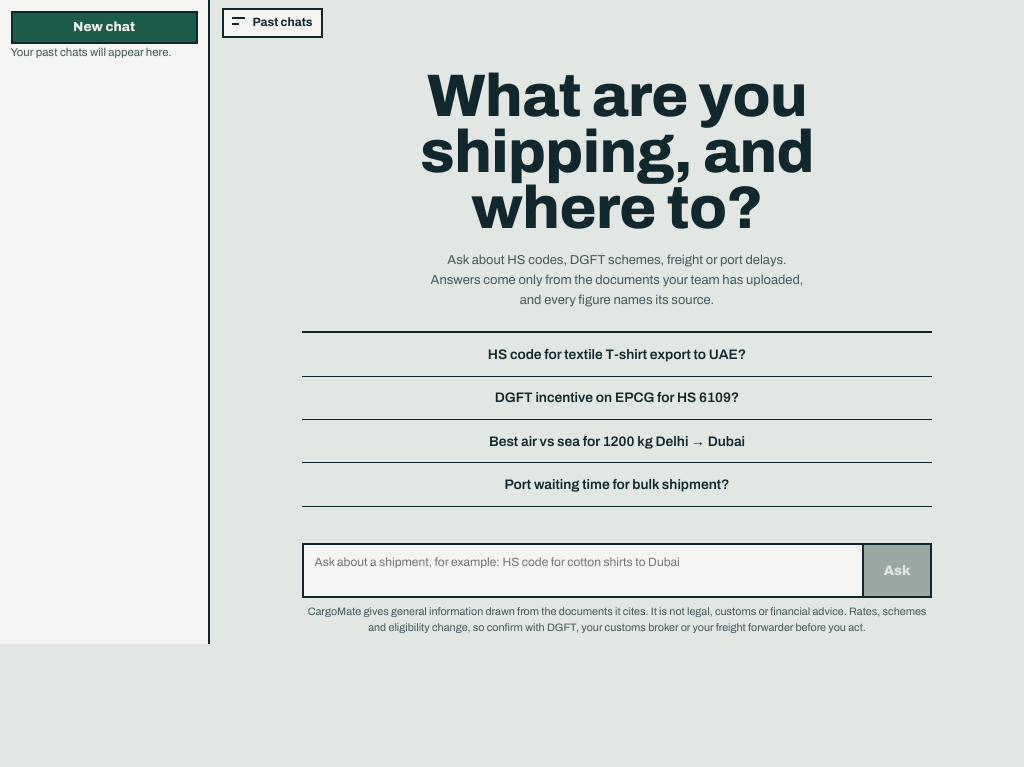
Chat history › continues an opened chat with its earlier turns as context, in the same list entry
Type "first" into the text box named "Your question" at (583, 571), box [304,545,862,596]
Then press Enter
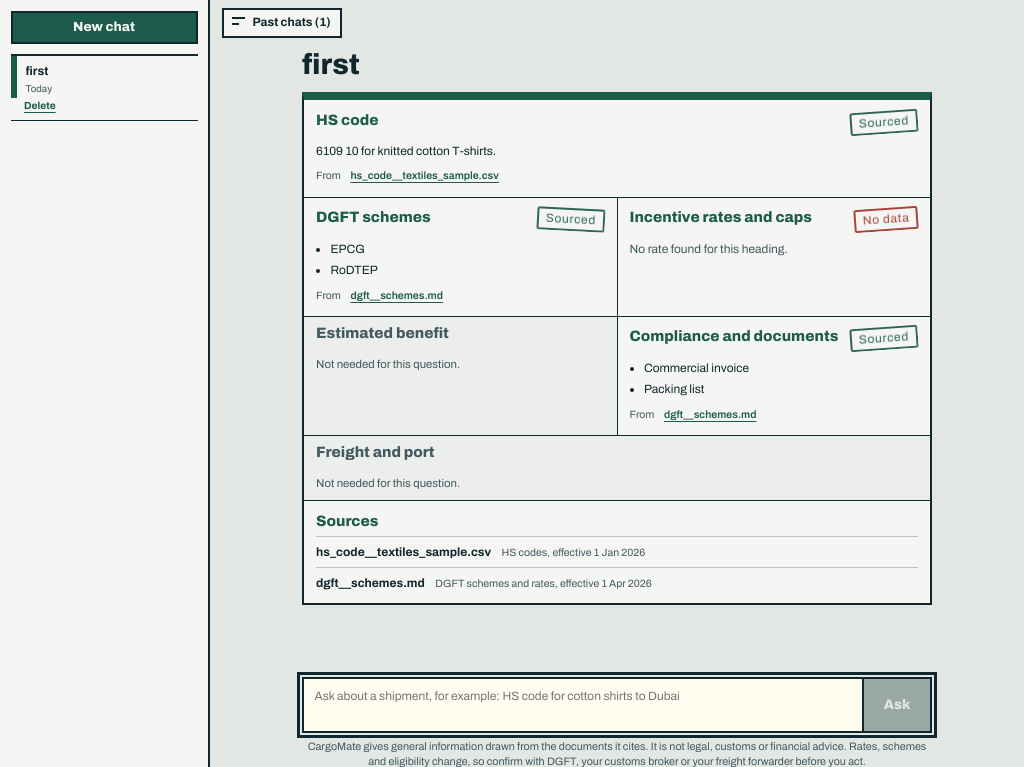
Expected: the text box named "Your question" is enabled, [304,679,862,731]
Click the button "New chat" at (104, 27), box [10,10,198,44]
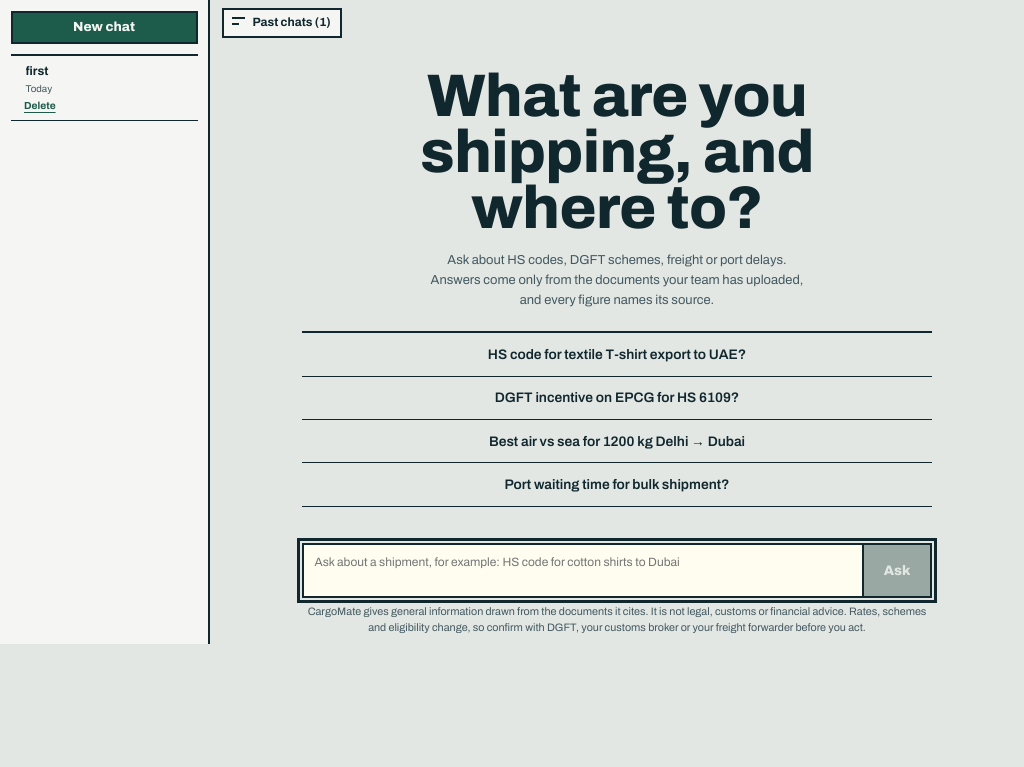
Click the button "first Today" at (104, 77), box [10,56,198,98]
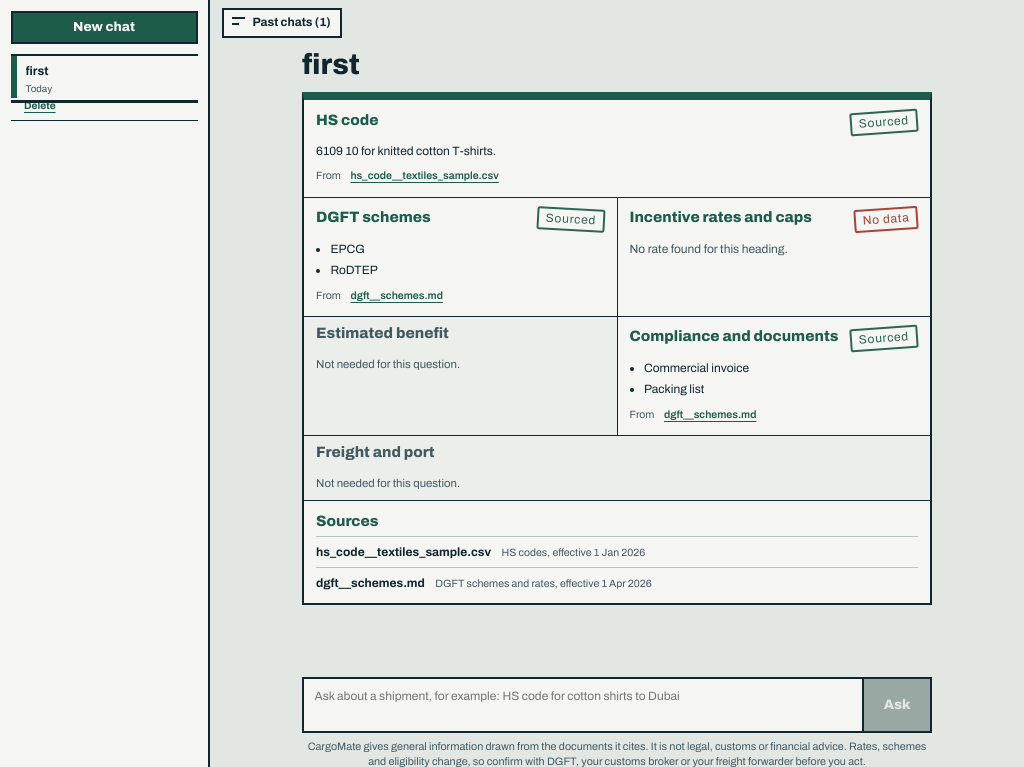
Type "and by sea?" into the text box named "Your question" at (583, 705), box [304,679,862,731]
Then press Enter
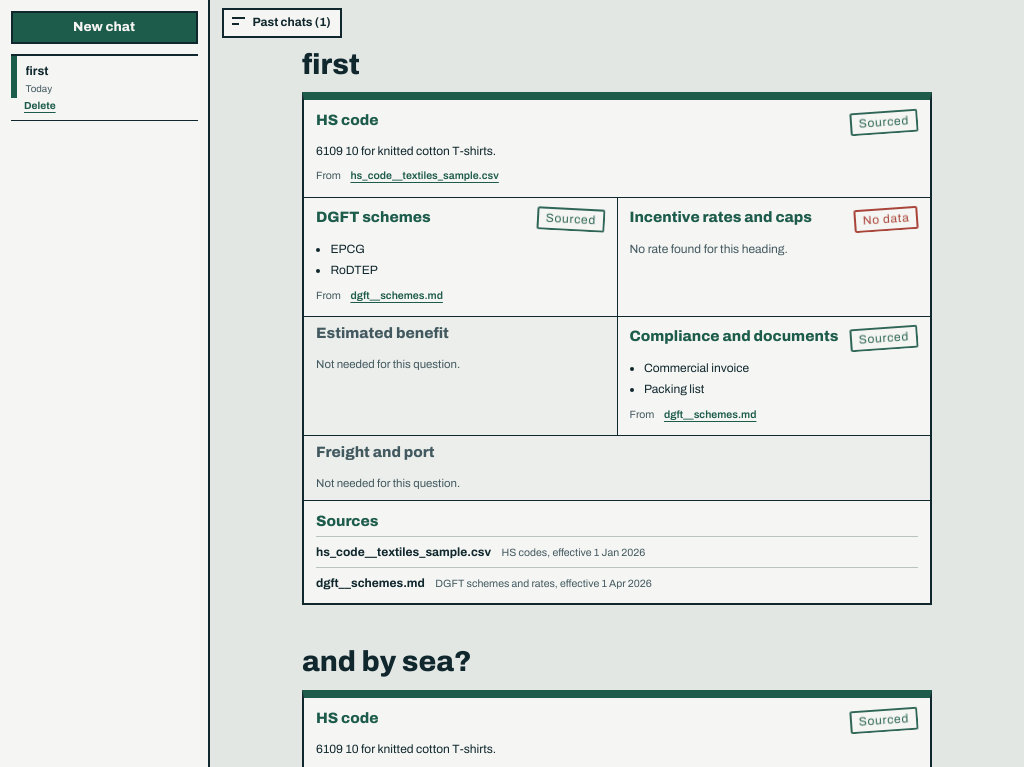
Expected: the text "first" is shown, [26,64,48,78]
Expected: the heading "and by sea?" is shown, [302,646,472,677]
